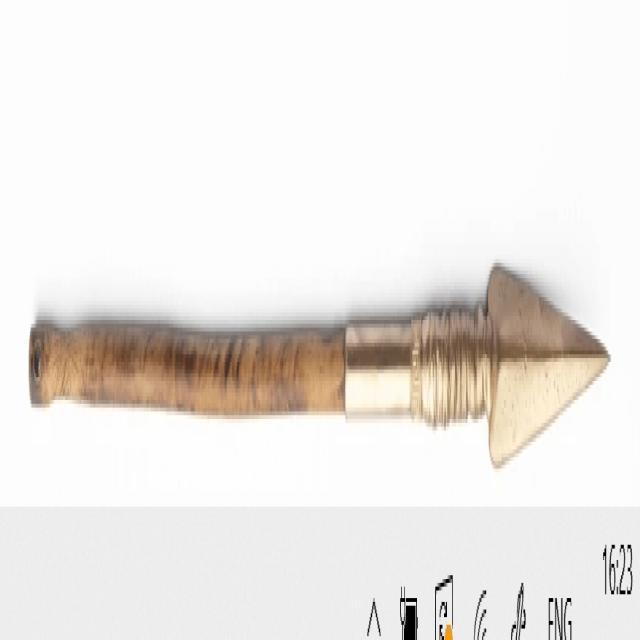spear: (21, 208, 613, 498)
